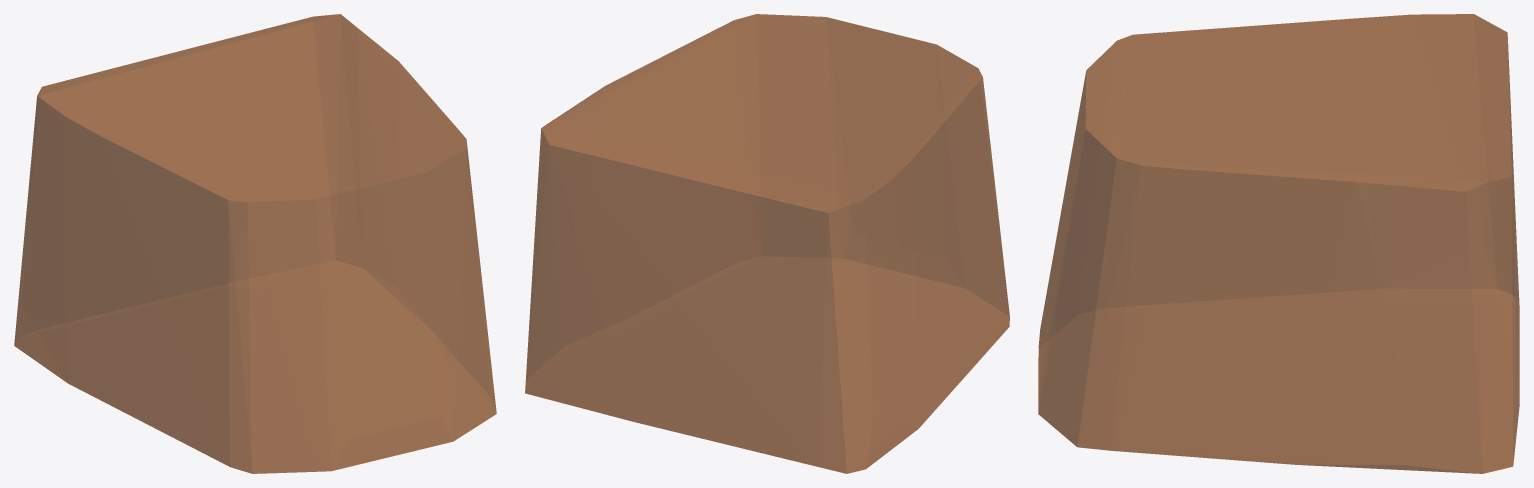
3 renders of one model, left to right at view 1: azimuth 30°, elevation 25°; view 2: azimuth 150°, elevation 25°; view 3: azimuth 270°, elevation 25°, orthographic. The views are drawn at different scales.
Parts seen in each view (by area): view 1: Shape_IndexedFaceSet.005_Shape_IndexedFaceSet.5732; view 2: Shape_IndexedFaceSet.005_Shape_IndexedFaceSet.5732; view 3: Shape_IndexedFaceSet.005_Shape_IndexedFaceSet.5732.
Boxes of the visible parts, x1,y1,x2,y2 form: Shape_IndexedFaceSet.005_Shape_IndexedFaceSet.5732: [14, 14, 496, 473]; Shape_IndexedFaceSet.005_Shape_IndexedFaceSet.5732: [525, 14, 1009, 473]; Shape_IndexedFaceSet.005_Shape_IndexedFaceSet.5732: [1038, 14, 1519, 473].
Size of the model in its own units: 0.4856 by 0.3485 by 0.5357.
